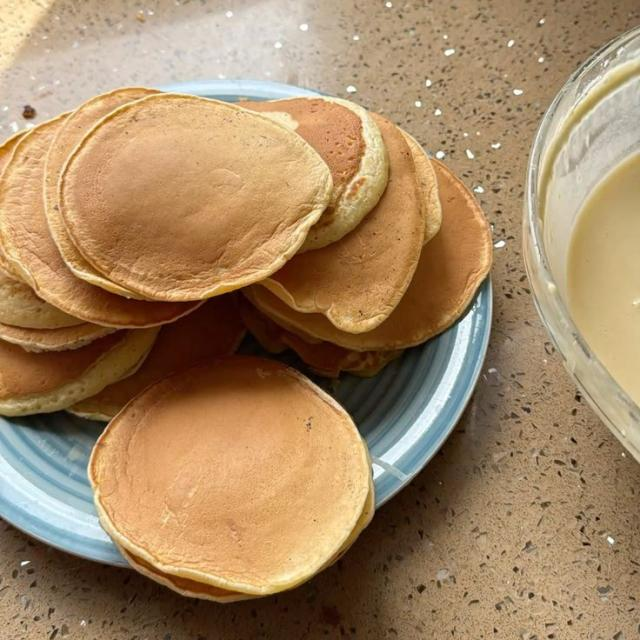pancake: (89, 357, 371, 594), (60, 94, 333, 300), (246, 160, 492, 351), (0, 116, 195, 327), (260, 114, 425, 333), (44, 87, 158, 297), (242, 97, 388, 252), (71, 294, 245, 420), (0, 329, 157, 415), (240, 297, 402, 377), (120, 547, 258, 602), (0, 251, 81, 328), (283, 332, 402, 378), (0, 265, 82, 329), (403, 131, 441, 243), (0, 323, 117, 352), (0, 131, 26, 179), (0, 131, 26, 174)
